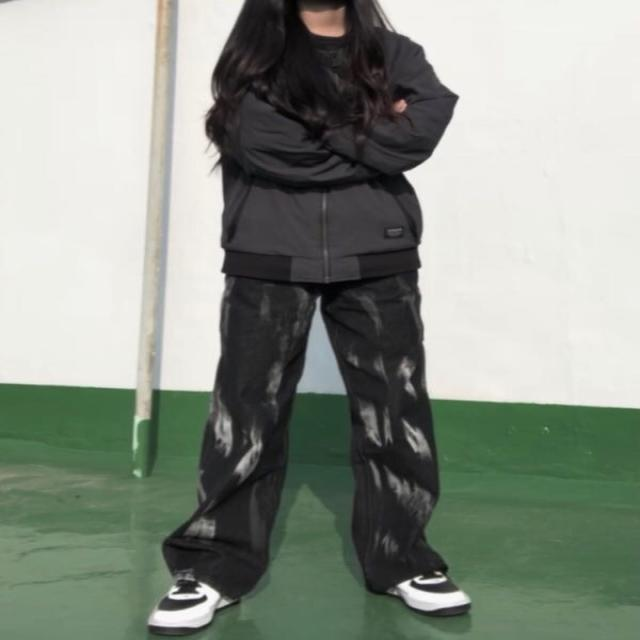denimpants: (162, 257, 450, 602)
zipup: (210, 18, 458, 284)
